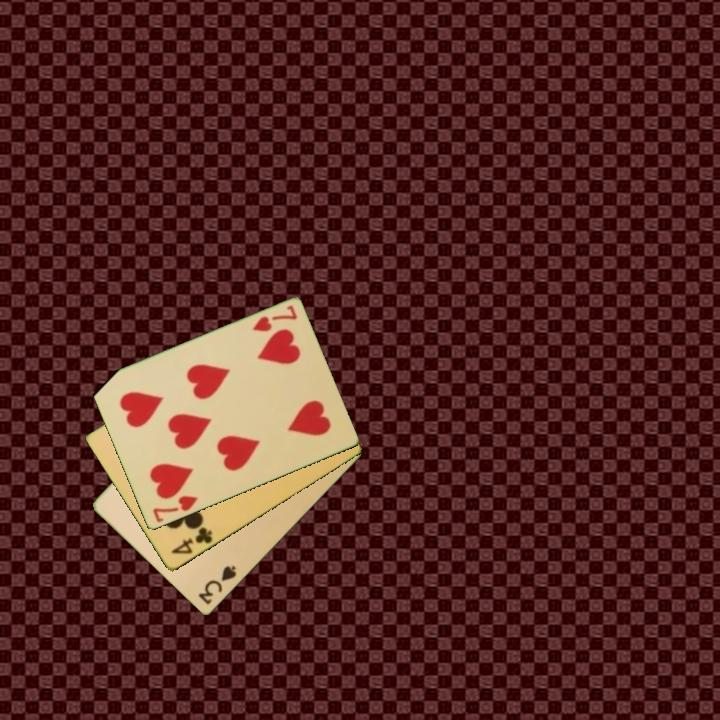3s: (195, 562, 239, 608)
4c: (167, 524, 215, 558)
7h: (149, 492, 200, 526), (249, 302, 300, 335)
